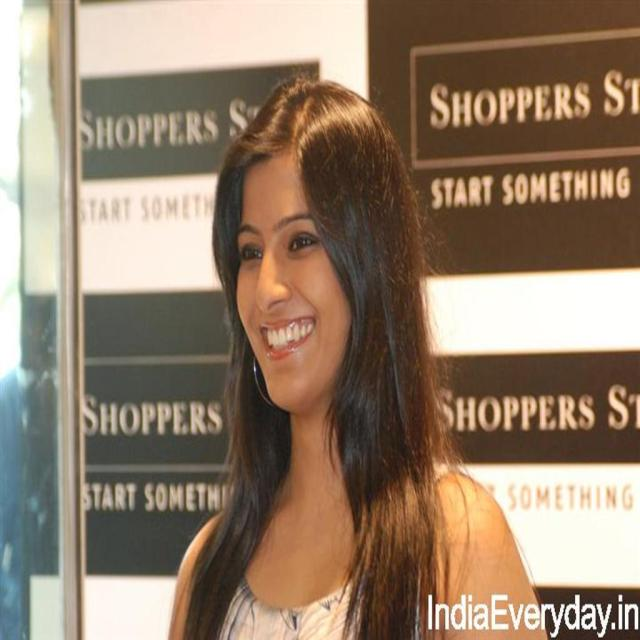Face: (223, 146, 370, 417)
